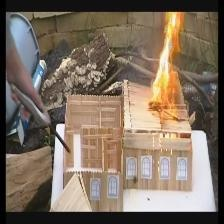fire: (135, 11, 198, 117)
